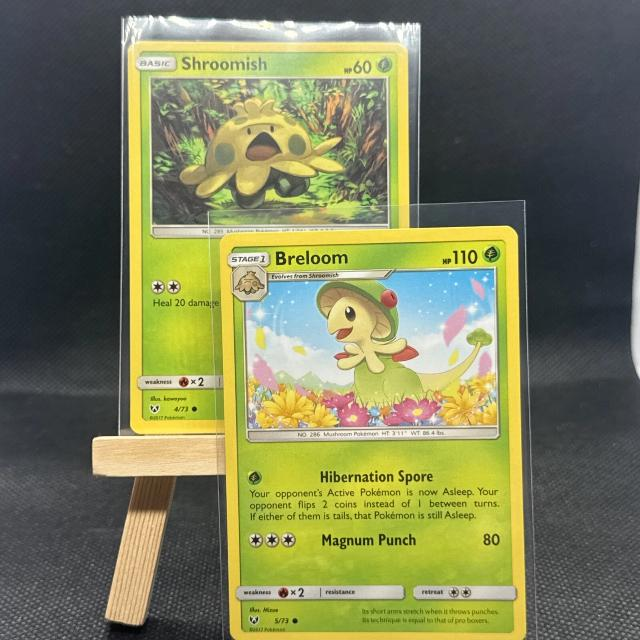Card: (216, 224, 531, 640), (123, 37, 414, 436)
Name: (179, 51, 272, 78), (272, 243, 353, 272)
